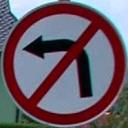NoVirarEsquerda: (2, 1, 127, 128)
